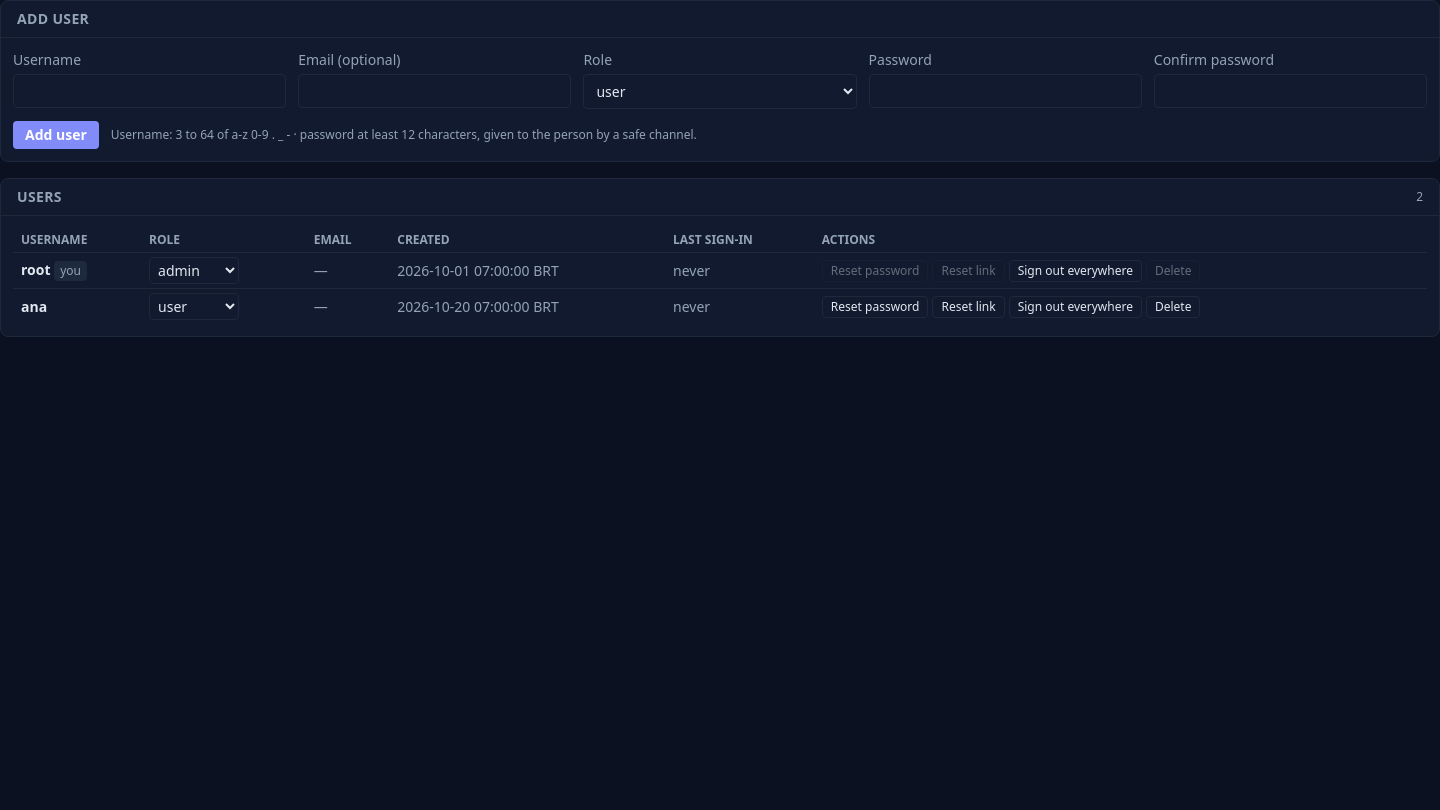
it: Users page: Reset link › the server's refusal is shown in the dialog
What coordinates should you click on to do the following:
click the button "Reset link" in the row of "ana"
I would click on:
 (968, 306)
Its box is [932,296,1005,318].
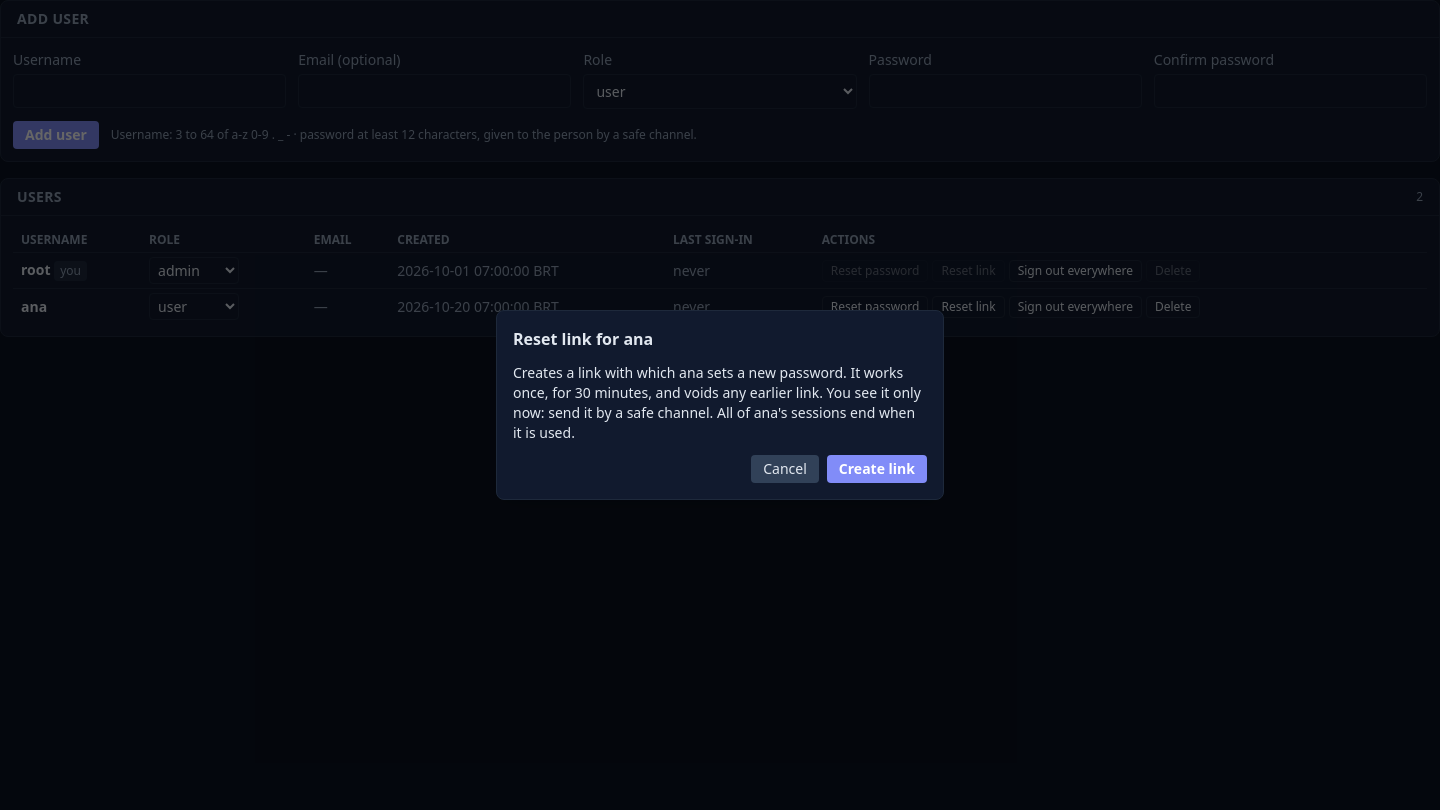
What coordinates should you click on to do the following:
click the button "Create link"
I would click on:
 (877, 469)
Its box is [827,455,927,483].
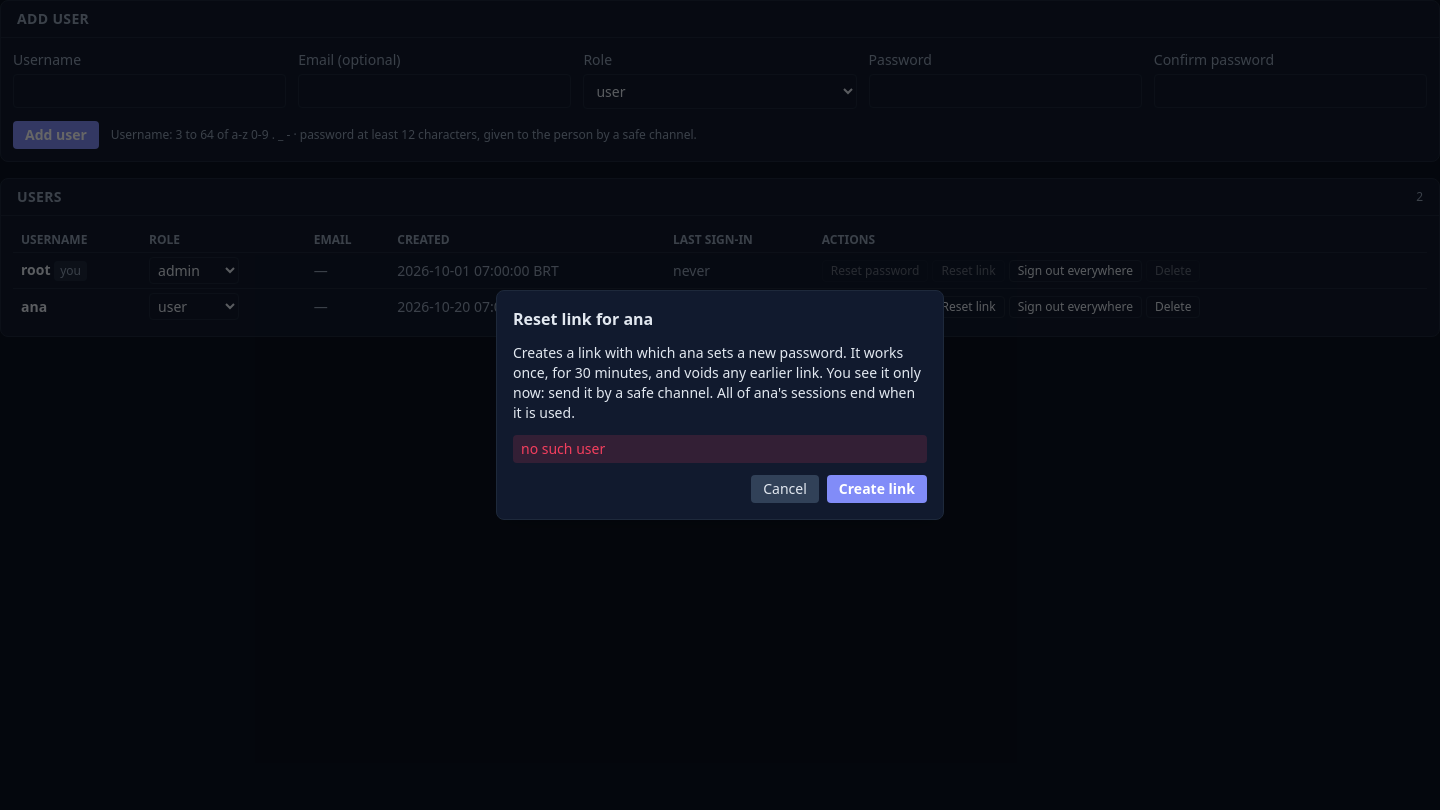
expect the message reads "no such user": met, box [521,439,605,458]
